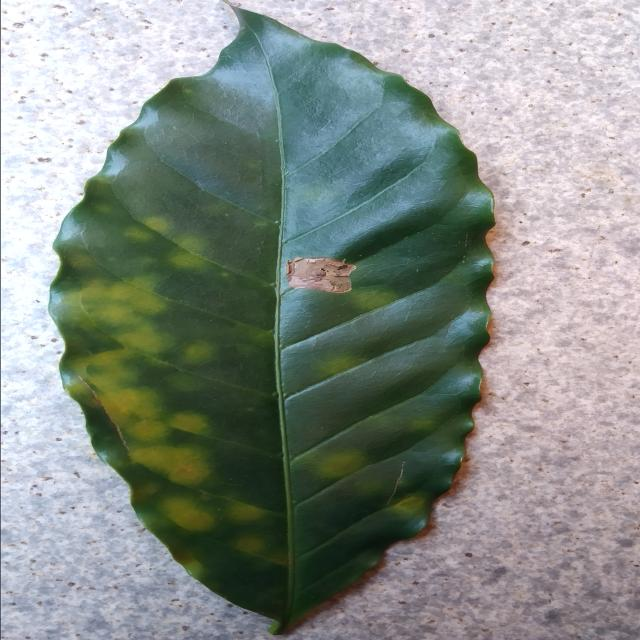Enfermedad-Roya: (47, 7, 496, 636)
